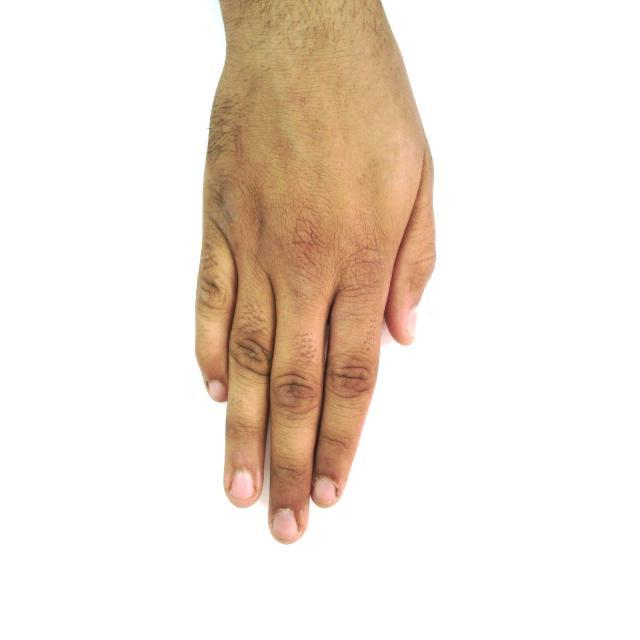Fingernail: (231, 470, 256, 502), (273, 509, 298, 539), (313, 478, 336, 504), (407, 304, 418, 338), (210, 381, 225, 400)
